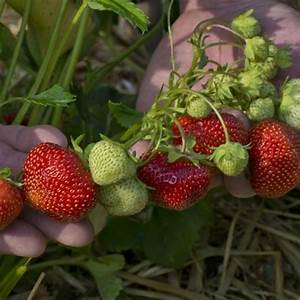Fresa: (18, 135, 106, 228), (133, 144, 214, 216), (243, 113, 300, 205)
